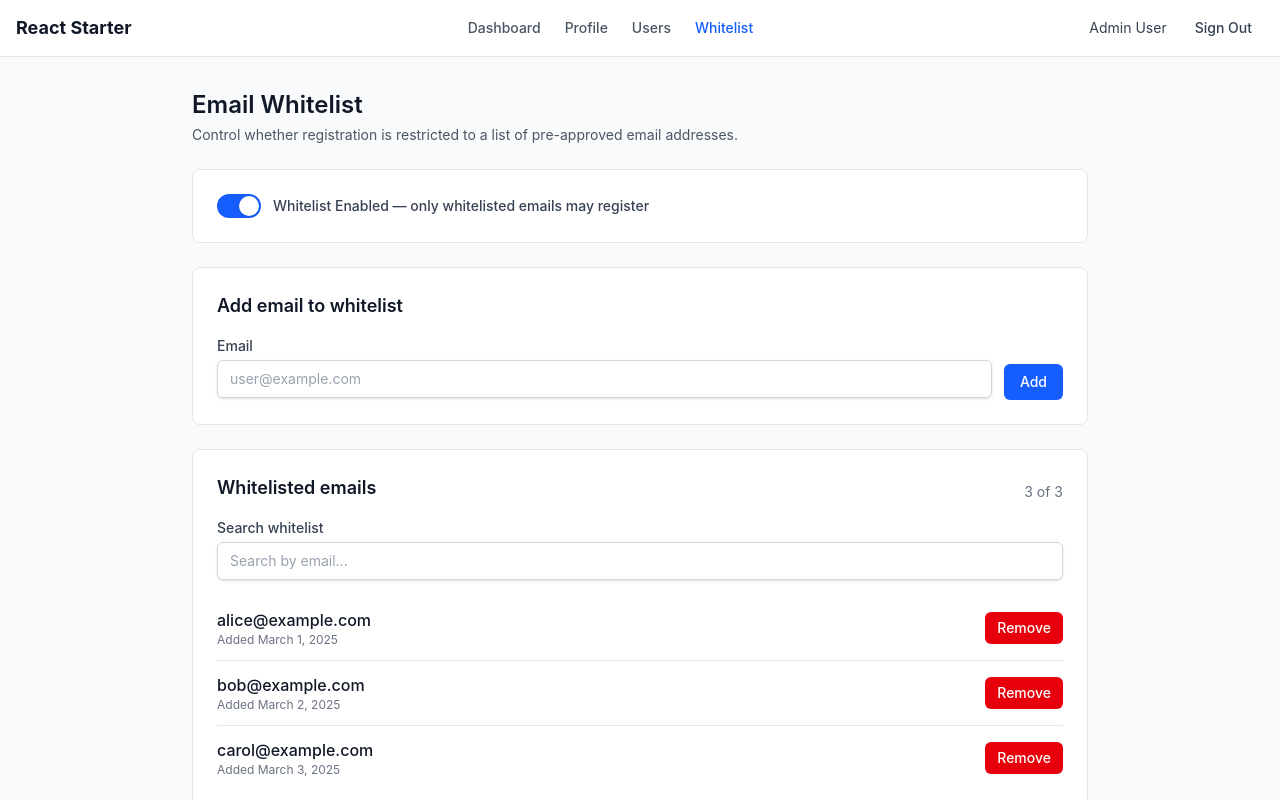
Test: WhitelistPage › removes an entry after confirming and shows toast
Check: the text "alice@example.com" is shown, box [217,608,371,632]
Click the button "Remove" in the row of "alice@example.com" at (1024,628), box [985,612,1063,644]
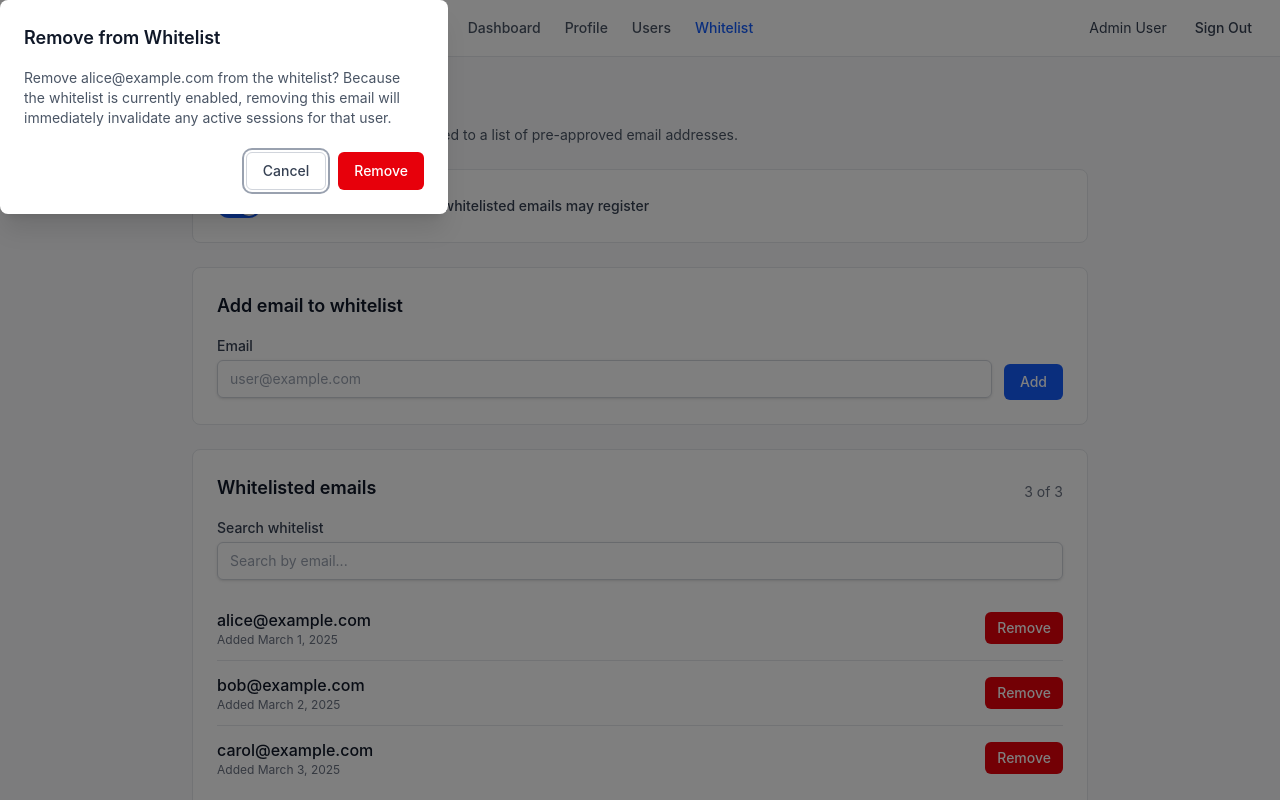
Check: the dialog is shown, box [0,0,448,214]
Click the button "Remove" at (381,171), box [338,152,424,190]
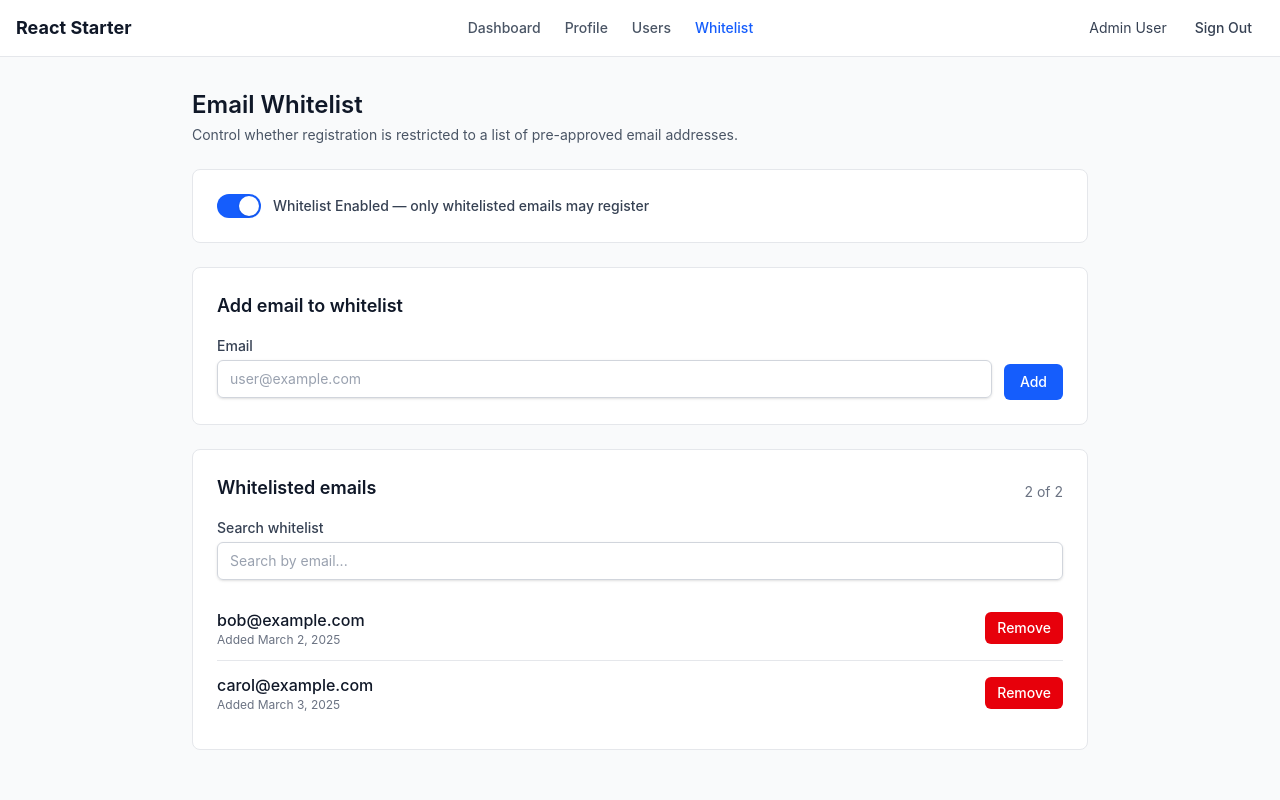
Check: the text "alice@example.com" is gone
